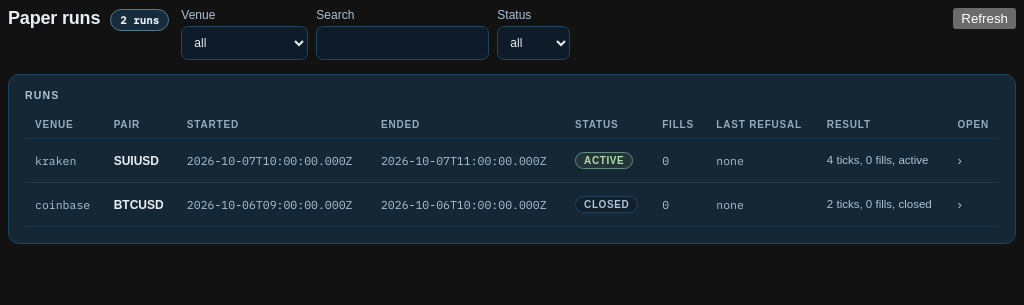
Test: LastRunsPanel — filter selections vs history refresh › leaves an unselected filter at all with no phantom options across refresh
expect the table with test id "paper-last-runs-table" is shown: met, box [25,111,999,227]
expect the dropdown named "Filter runs by venue" shows "all": met, box [181,26,308,60]
Click the button with test id "paper-last-runs-refresh" at point(985, 18), box [953,8,1016,29]
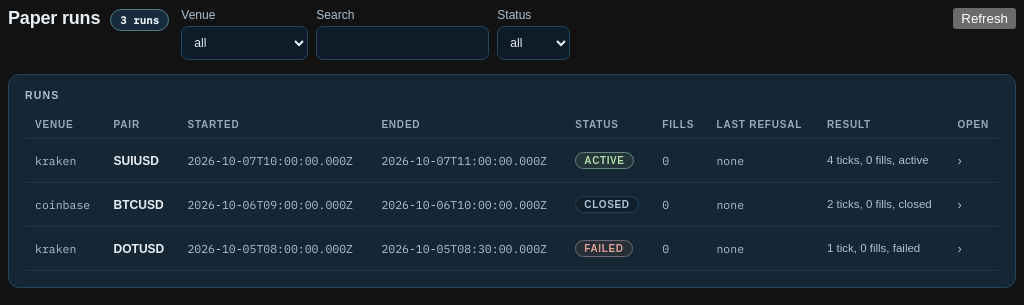
expect the dropdown named "Filter runs by venue" shows "all": met, box [181,26,308,60]
expect the text with test id "paper-last-runs-count" reads "3 runs": met, box [120,13,159,27]
